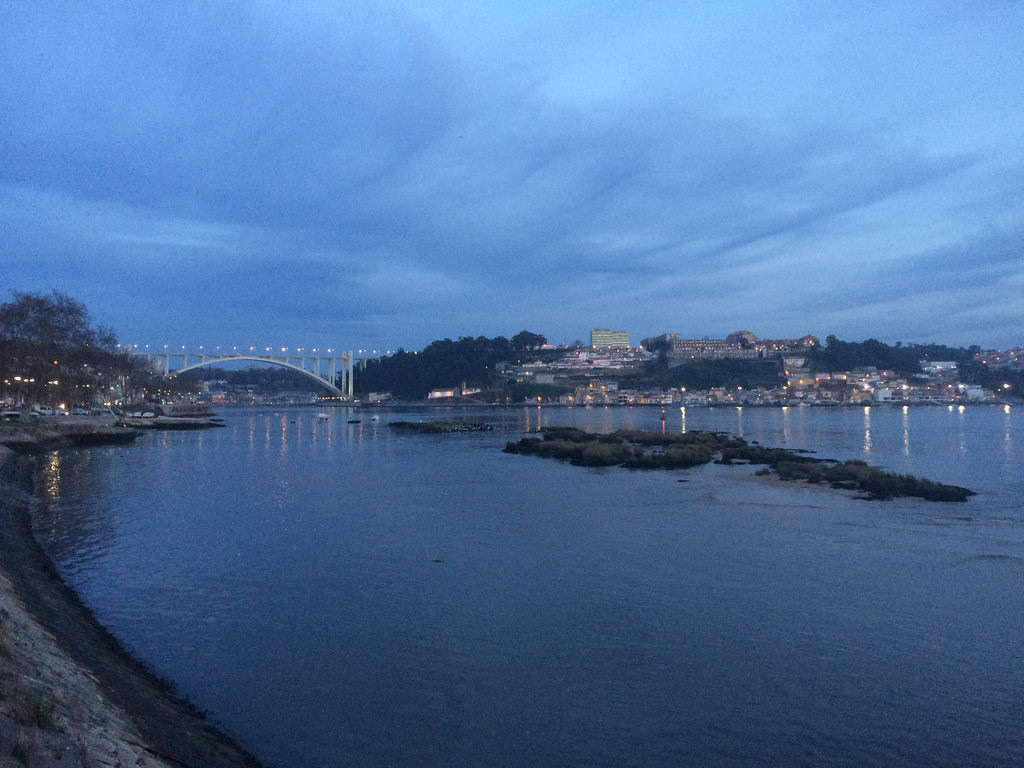arrabida: (113, 343, 371, 401)
